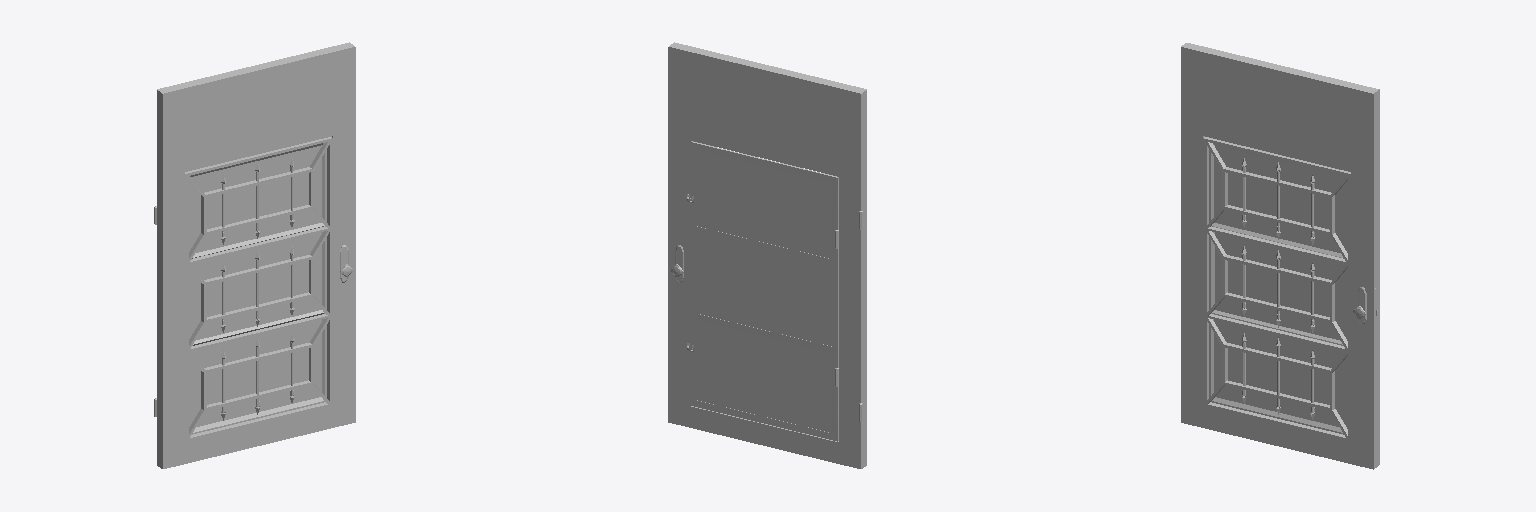
File: door.obj
3 renders of one model, left to right at view 1: azimuth 30°, elevation 25°; view 2: azimuth 150°, elevation 25°; view 3: azimuth 330°, elevation 25°, orthographic.
Visible parts, largest first — view 1: porta_Cube.002, vidro_Cube.000, grade_Cube.001, coisas_Cube.003; view 2: porta_Cube.002, vidro_Cube.000, grade_Cube.001, coisas_Cube.003; view 3: porta_Cube.002, vidro_Cube.000, grade_Cube.001, coisas_Cube.003.
Boxes of the visible parts, <box> form: porta_Cube.002: <box>157,42,355,468</box>; vidro_Cube.000: <box>189,145,321,426</box>; grade_Cube.001: <box>190,143,326,434</box>; coisas_Cube.003: <box>154,158,352,420</box>; porta_Cube.002: <box>668,42,866,468</box>; vidro_Cube.000: <box>697,150,831,432</box>; grade_Cube.001: <box>691,141,838,441</box>; coisas_Cube.003: <box>671,194,862,421</box>; porta_Cube.002: <box>1181,43,1379,469</box>; vidro_Cube.000: <box>1214,146,1347,428</box>; grade_Cube.001: <box>1209,143,1345,434</box>; coisas_Cube.003: <box>1242,158,1377,419</box>.
Bounding box in the file's own units: 10.44 × 19.14 × 1.22.